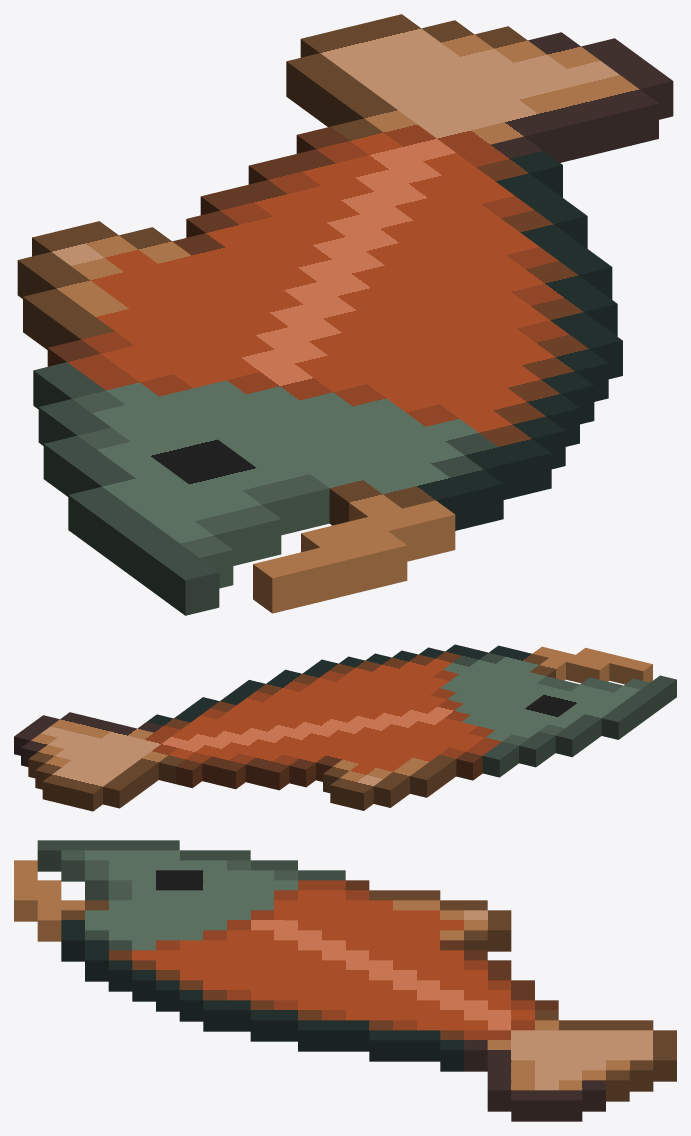
The model's file is SM_Cooked_Salmon.fbx.
3 views of the same model, one above another, from view 1: azimuth 30°, elevation 25°; view 2: azimuth 150°, elevation 25°; view 3: azimuth 270°, elevation 25° (orthographic). The views are drawn at different scales.
Visible parts, largest first — view 1: T_Cooked_Salmon_8; view 2: T_Cooked_Salmon_8; view 3: T_Cooked_Salmon_8.
Part boxes in pixels (x1=…): T_Cooked_Salmon_8: x1=17, y1=14, x2=673, y2=615; T_Cooked_Salmon_8: x1=14, y1=644, x2=676, y2=811; T_Cooked_Salmon_8: x1=14, y1=840, x2=676, y2=1121.
Bounding box in the file's own units: 12.92 × 0.4969 × 13.91.
